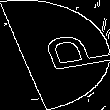P_W: (9, 31, 101, 79)
